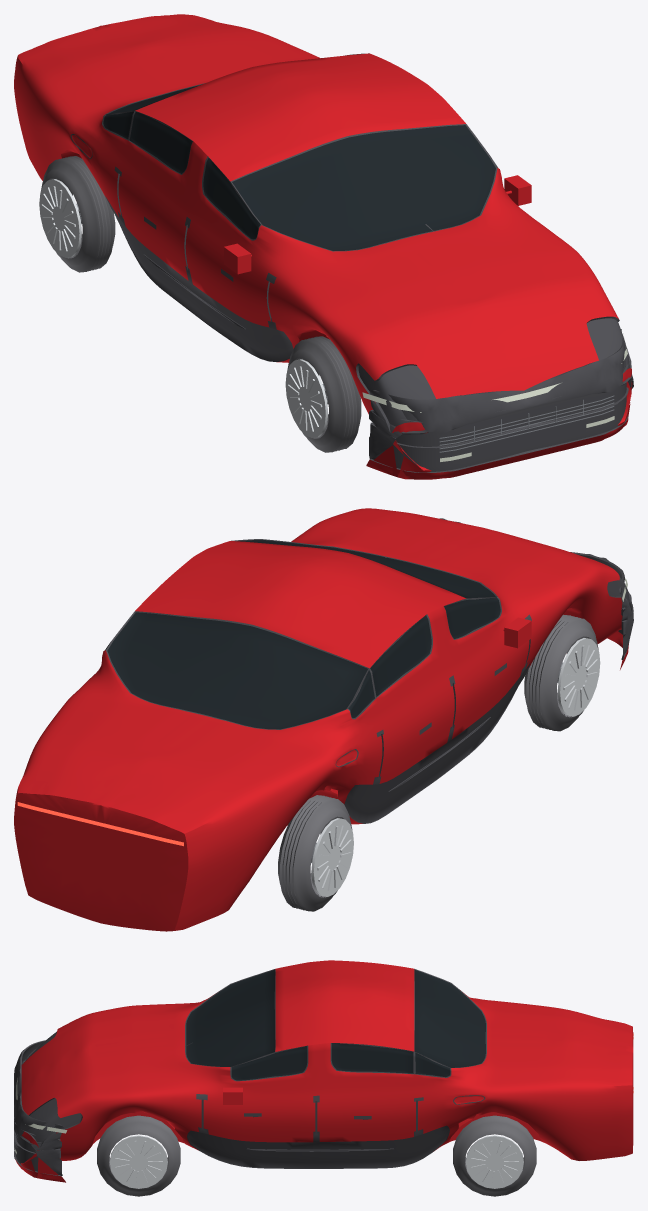
Rendered from Sedan_Mid_A_25.fbx.
The picture shows the model from 3 angles, top to bottom: view 1: azimuth 30°, elevation 25°; view 2: azimuth 150°, elevation 25°; view 3: azimuth 270°, elevation 25°; orthographic projection. The views are drawn at different scales.
Visible parts, largest first — view 1: LOD0; view 2: LOD0; view 3: LOD0.
Part boxes in pixels (left/top/right/bottom): LOD0: left=14, top=14, right=633, bottom=479; LOD0: left=14, top=508, right=633, bottom=931; LOD0: left=14, top=960, right=633, bottom=1196.
Size of what is drawn, in the model's own units: 195 by 144 by 492.
